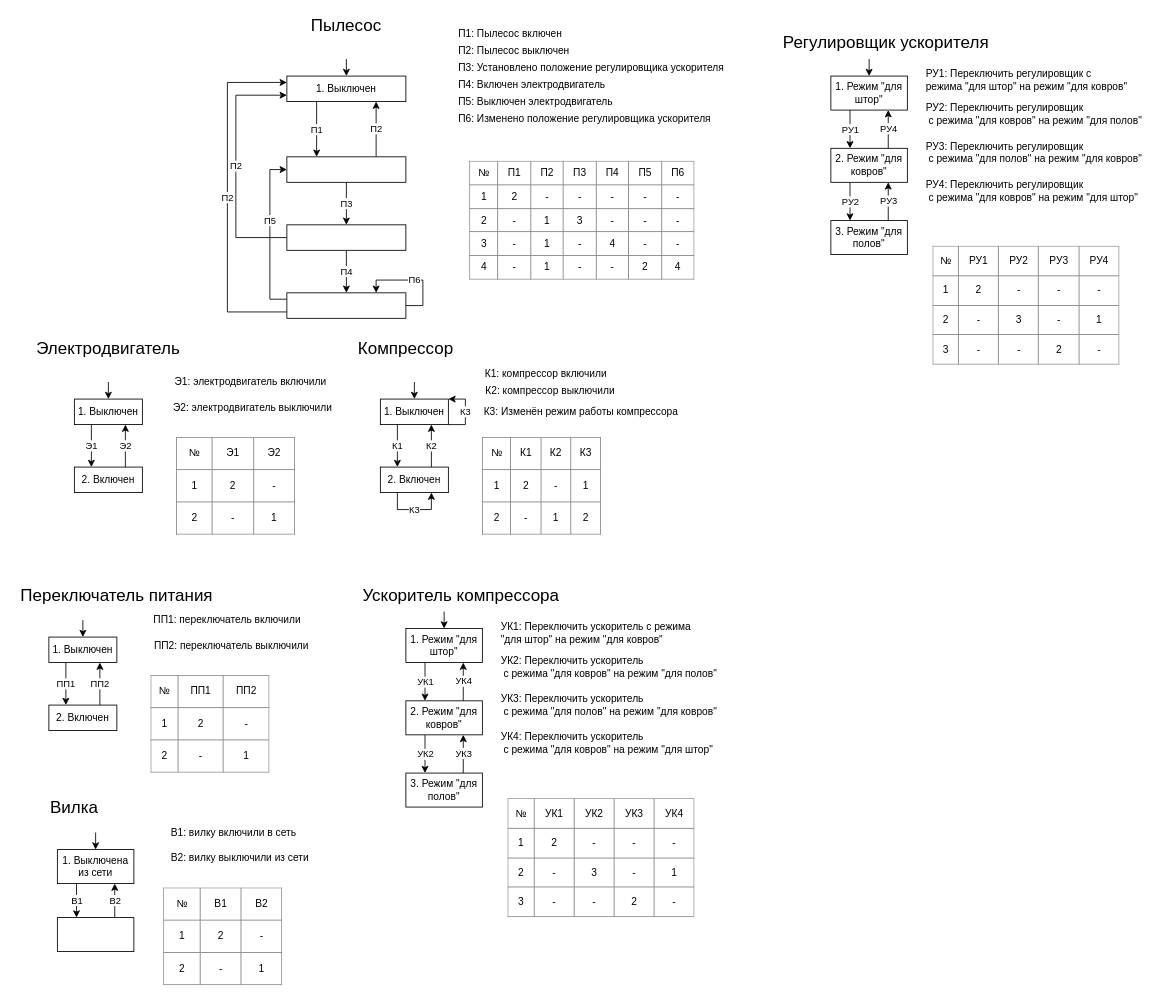
Some shapes in this 1168 by 1000 pixel diagram are drawn without their labels. Each missing label, with the centre of its shape:
"2. Включена в сеть" goes at [95,934].
"2. Готов к работе" goes at [346,169].
"3. Выставлен режим компрессора" goes at [346,237].
"4. Работает" goes at [346,305].
